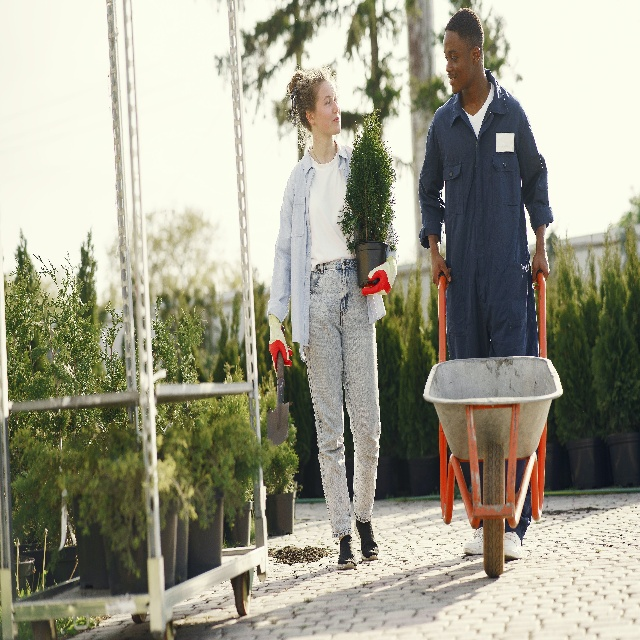Guantes: (267, 312, 293, 376), (361, 255, 398, 297)
Sin_guantes: (531, 244, 551, 290), (430, 251, 452, 291)
